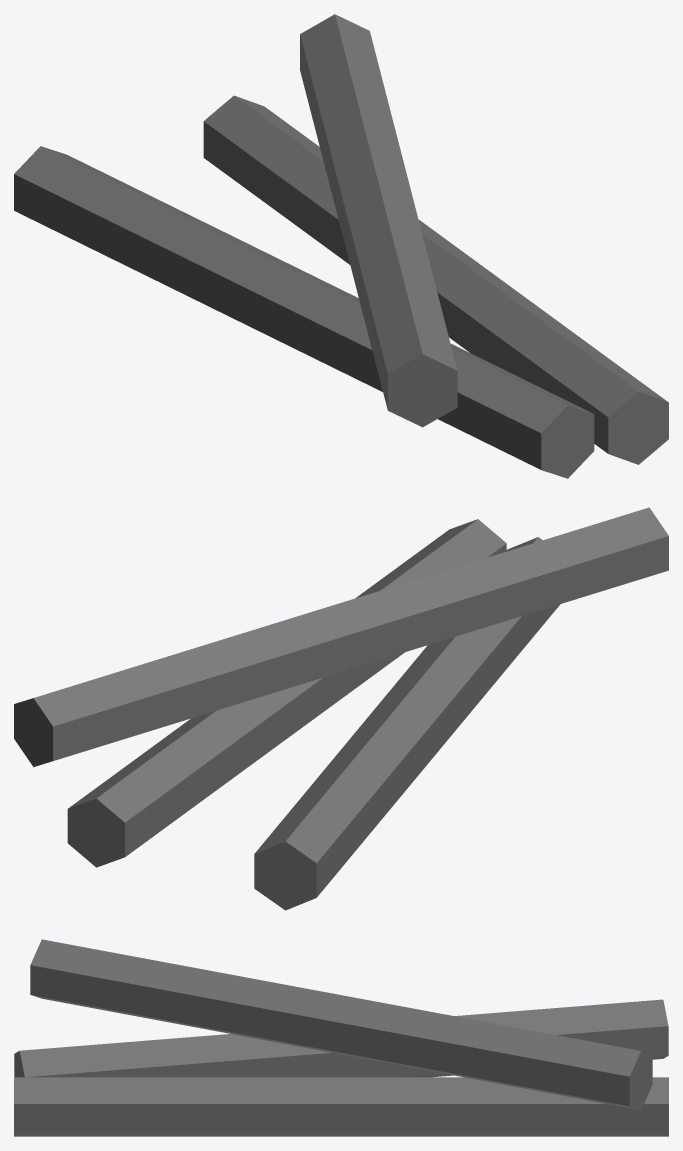
The model's file is Metal_Rods_0.fbx.
3 views of the same model, one above another, from view 1: azimuth 30°, elevation 25°; view 2: azimuth 150°, elevation 25°; view 3: azimuth 270°, elevation 25° (orthographic). The views are drawn at different scales.
Parts seen in each view (by area): view 1: Metal_Rods; view 2: Metal_Rods; view 3: Metal_Rods.
Part boxes in pixels (x1=…): Metal_Rods: x1=14, y1=14, x2=668, y2=478; Metal_Rods: x1=14, y1=507, x2=668, y2=910; Metal_Rods: x1=14, y1=939, x2=668, y2=1136.
Bounding box in the file's own units: 48.28 × 20.01 × 100.
